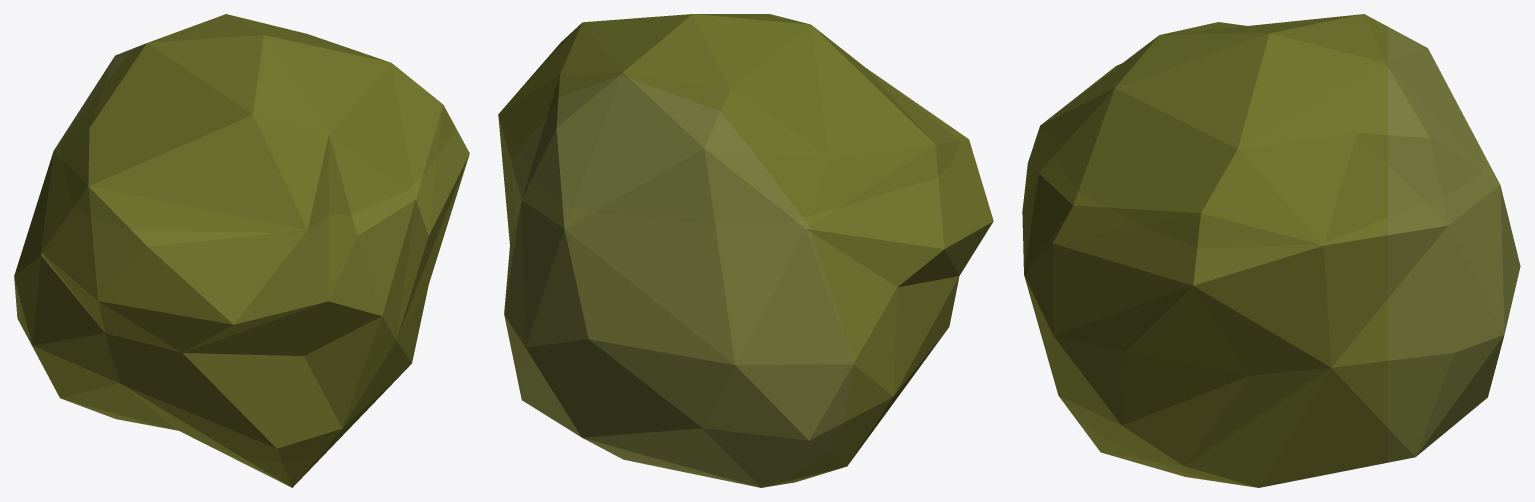
The model's file is YN_TreeBush1.fbx.
3 views of the same model, side by side, from view 1: azimuth 30°, elevation 25°; view 2: azimuth 150°, elevation 25°; view 3: azimuth 270°, elevation 25° (orthographic). The views are drawn at different scales.
Parts seen in each view (by area): view 1: YN_TreeBush1; view 2: YN_TreeBush1; view 3: YN_TreeBush1.
Boxes of the visible parts, x1,y1,x2,y2 form: YN_TreeBush1: [14, 14, 469, 487]; YN_TreeBush1: [498, 14, 993, 487]; YN_TreeBush1: [1022, 14, 1520, 487].
Bounding box in the file's own units: 8.92 × 8.32 × 8.45.
